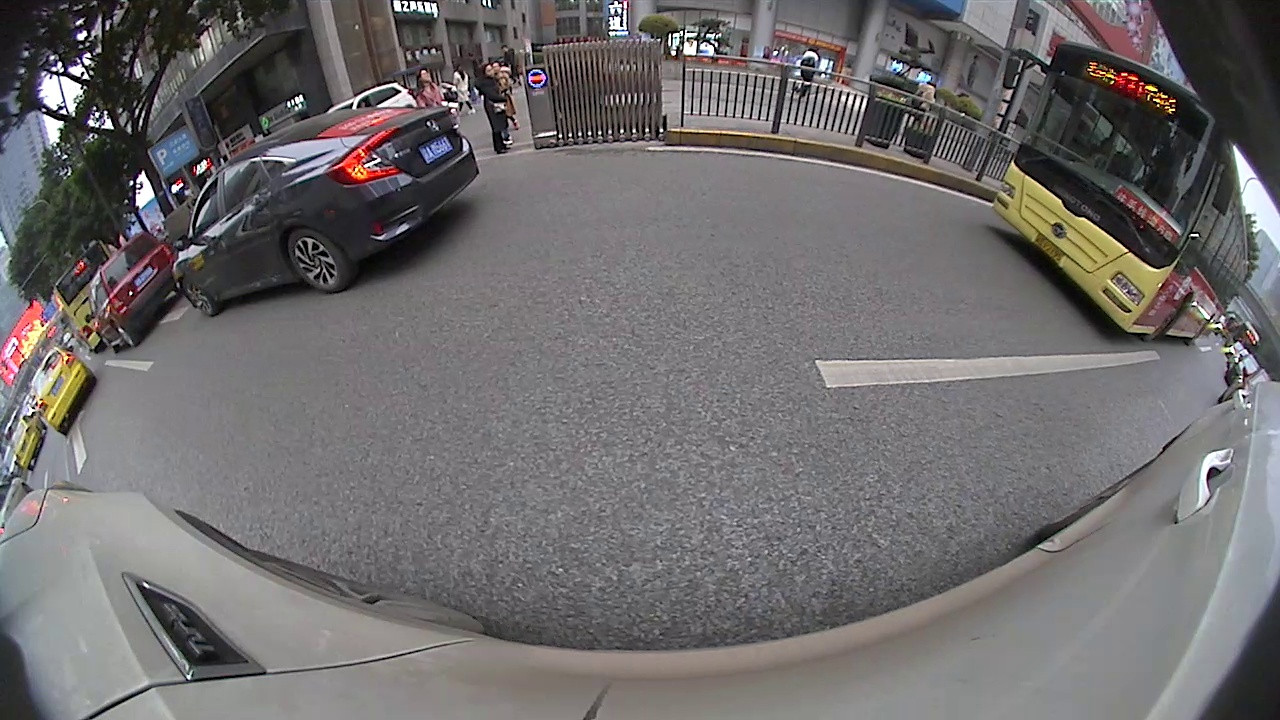bus: (993, 37, 1250, 344), (51, 233, 129, 351)
car: (172, 105, 478, 318), (89, 230, 185, 355), (28, 346, 98, 438), (323, 83, 422, 116), (8, 411, 48, 470), (1214, 367, 1273, 407), (1223, 354, 1262, 388)
front: (181, 282, 220, 318)
person: (482, 66, 499, 153), (418, 69, 438, 113), (454, 62, 469, 112), (500, 69, 512, 130), (918, 80, 934, 123), (803, 53, 816, 100)
rear: (280, 231, 353, 295), (113, 327, 142, 350)
